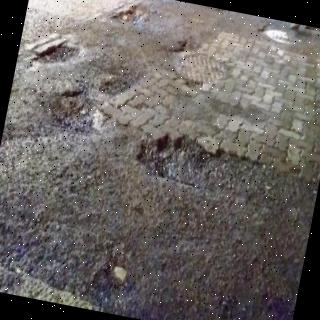pothole: (136, 136, 265, 199)
